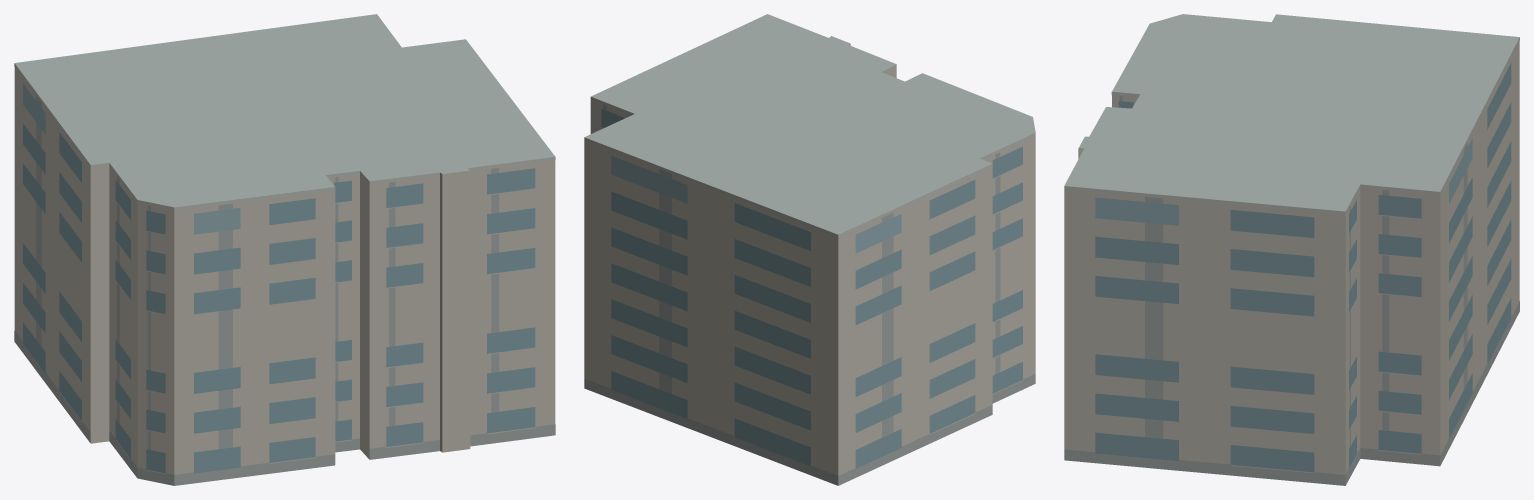
Rendered from survey-upis-32969686.glb.
3 renders of one model, left to right at view 1: azimuth 30°, elevation 25°; view 2: azimuth 150°, elevation 25°; view 3: azimuth 270°, elevation 25°, orthographic. The views are drawn at different scales.
Parts seen in each view (by area): view 1: survey-upis-32969686.tmp; view 2: survey-upis-32969686.tmp; view 3: survey-upis-32969686.tmp.
Part boxes in pixels (x1,y1,x2,y2): survey-upis-32969686.tmp: [14, 14, 555, 485]; survey-upis-32969686.tmp: [584, 14, 1035, 485]; survey-upis-32969686.tmp: [1064, 14, 1519, 485].
Bounding box in the file's own units: 29.92 × 19.37 × 29.16.
